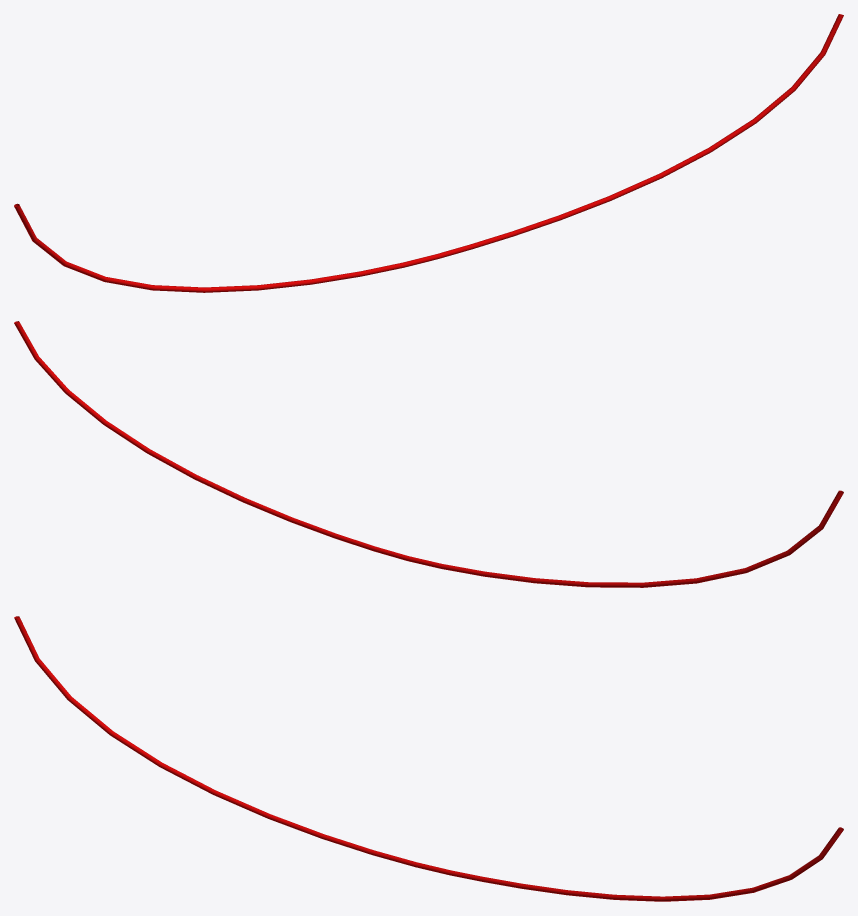
File: Attic_Cable_01_LP_Splines_21.glb
3 views of the same model, one above another, from view 1: azimuth 30°, elevation 25°; view 2: azimuth 150°, elevation 25°; view 3: azimuth 330°, elevation 25° (orthographic). The views are drawn at different scales.
Visible parts, largest first — view 1: Attic_Cable_01_LP_Splines_21; view 2: Attic_Cable_01_LP_Splines_21; view 3: Attic_Cable_01_LP_Splines_21.
Boxes of the visible parts, x1,y1,x2,y2 form: Attic_Cable_01_LP_Splines_21: (14, 14, 843, 292); Attic_Cable_01_LP_Splines_21: (14, 321, 843, 587); Attic_Cable_01_LP_Splines_21: (14, 616, 843, 901).
Bounding box in the file's own units: 3.77 × 0.7221 × 0.1118.
